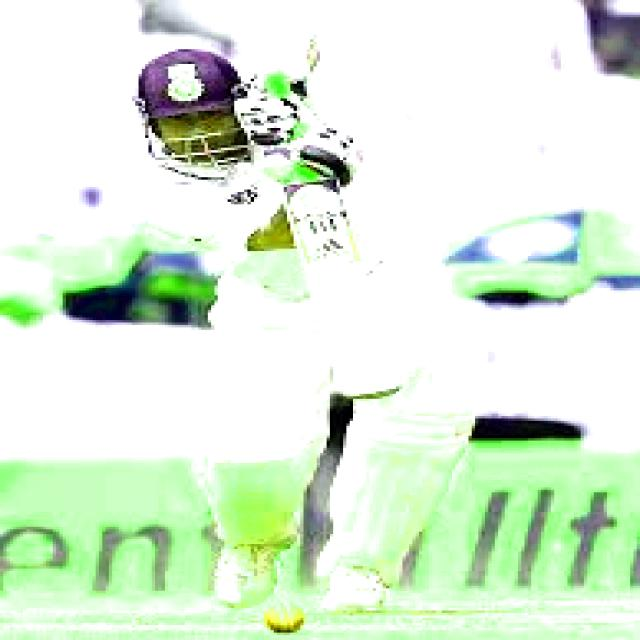toe: (318, 336, 421, 406)
